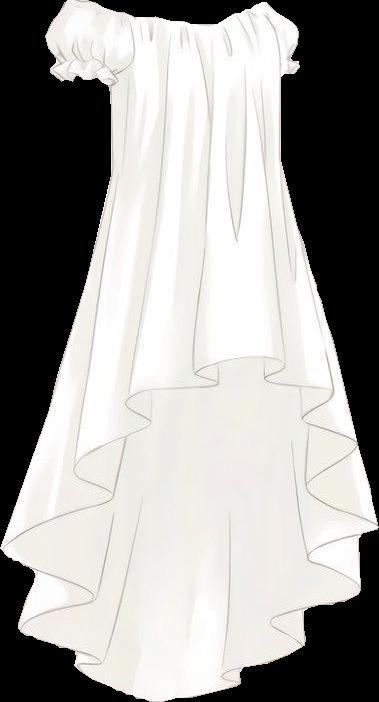Bodice: (108, 10, 280, 161)
Hemline: (0, 355, 376, 548)
Neckline: (126, 6, 255, 31)
Skirt: (1, 162, 378, 700)
Sleeve: (45, 0, 131, 86)
Sleeveline: (105, 14, 137, 89), (56, 56, 120, 79)
